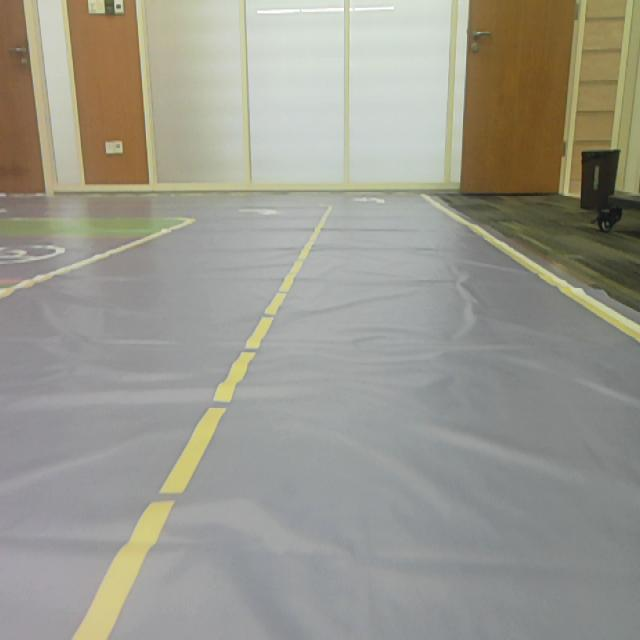left_lane: (69, 208, 330, 640)
right_lane: (424, 197, 640, 345)
